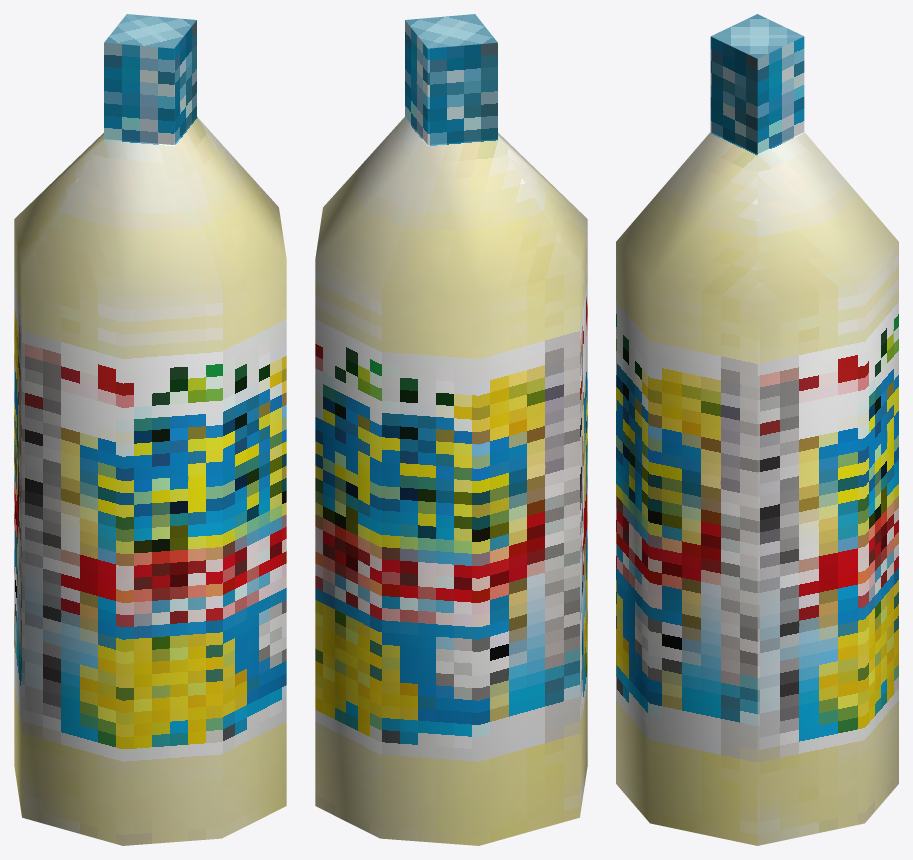
Rendered from Bottle003.glb.
3 renders of one model, left to right at view 1: azimuth 30°, elevation 25°; view 2: azimuth 150°, elevation 25°; view 3: azimuth 270°, elevation 25°, orthographic.
Visible parts, largest first — view 1: bottle.003; view 2: bottle.003; view 3: bottle.003.
Boxes of the visible parts, box(x1,y1,x2,y2) form: bottle.003: box(14, 14, 286, 845); bottle.003: box(315, 14, 587, 845); bottle.003: box(616, 14, 898, 845).
Bounding box in the file's own units: 0.0605 × 0.17 × 0.0583.
1 material, 1 textured.
